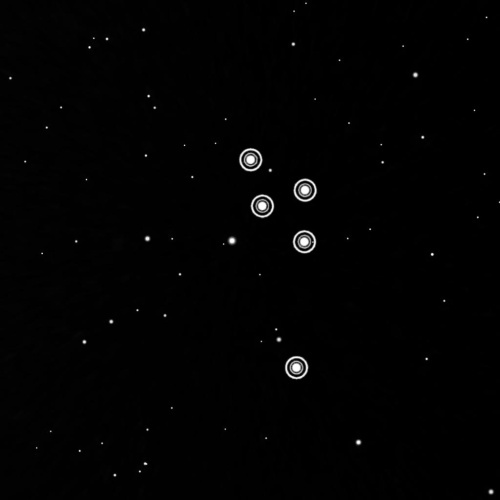delphinus: (234, 140, 320, 385)
